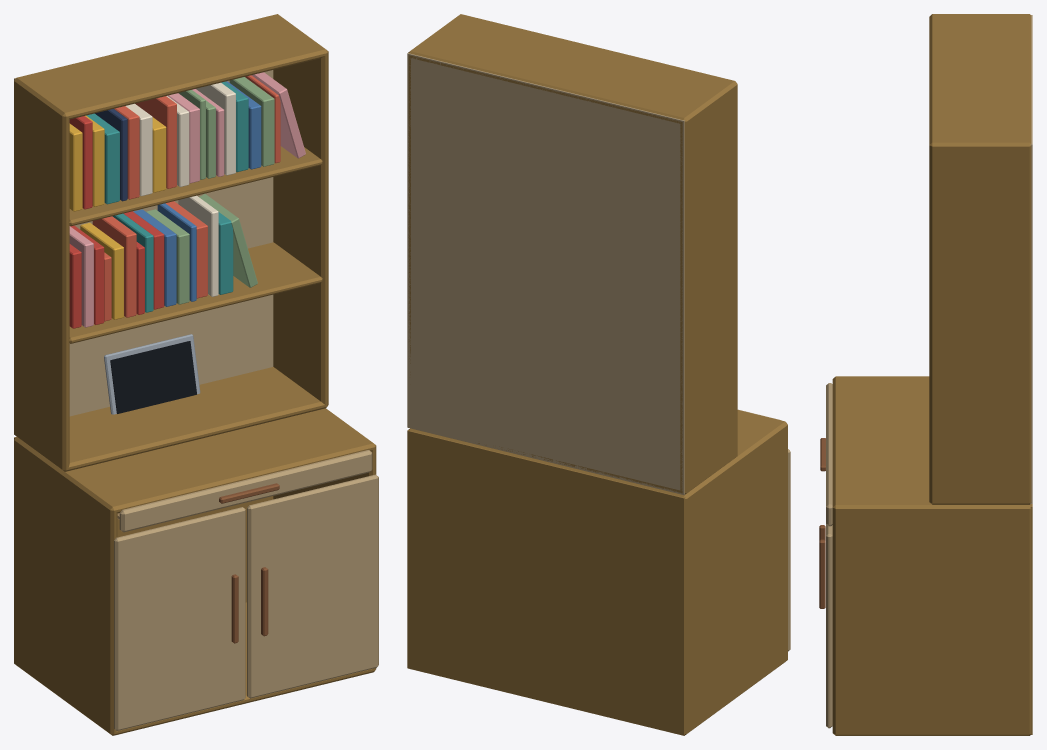
File: bookcase_desk.glb
3 views of the same model, side by side, from view 1: azimuth 30°, elevation 25°; view 2: azimuth 150°, elevation 25°; view 3: azimuth 270°, elevation 25° (orthographic). The views are drawn at different scales.
Visible parts, largest first — view 1: bookcase_desk_Body, bookcase_desk_Board; view 2: bookcase_desk_Body; view 3: bookcase_desk_Body, bookcase_desk_Board.
Boxes of the visible parts, x1,y1,x2,y2 form: bookcase_desk_Body: (14, 14, 378, 735); bookcase_desk_Board: (117, 450, 372, 532); bookcase_desk_Body: (407, 14, 790, 735); bookcase_desk_Body: (819, 14, 1032, 735); bookcase_desk_Board: (820, 383, 832, 526).
Size of the model in its own units: 0.9 by 1.9 by 0.619.
